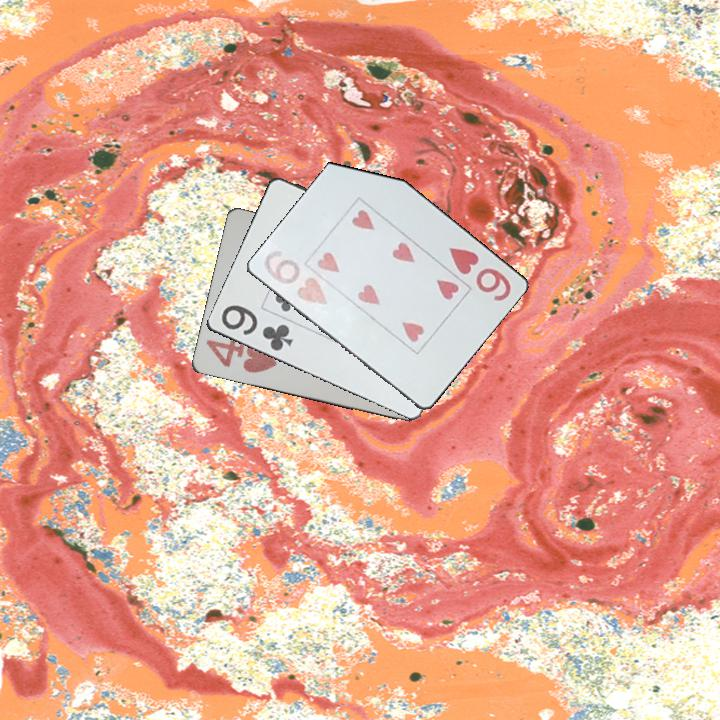4h: (202, 336, 280, 376)
6h: (257, 245, 330, 311), (445, 244, 514, 304)
9c: (217, 301, 296, 354)
